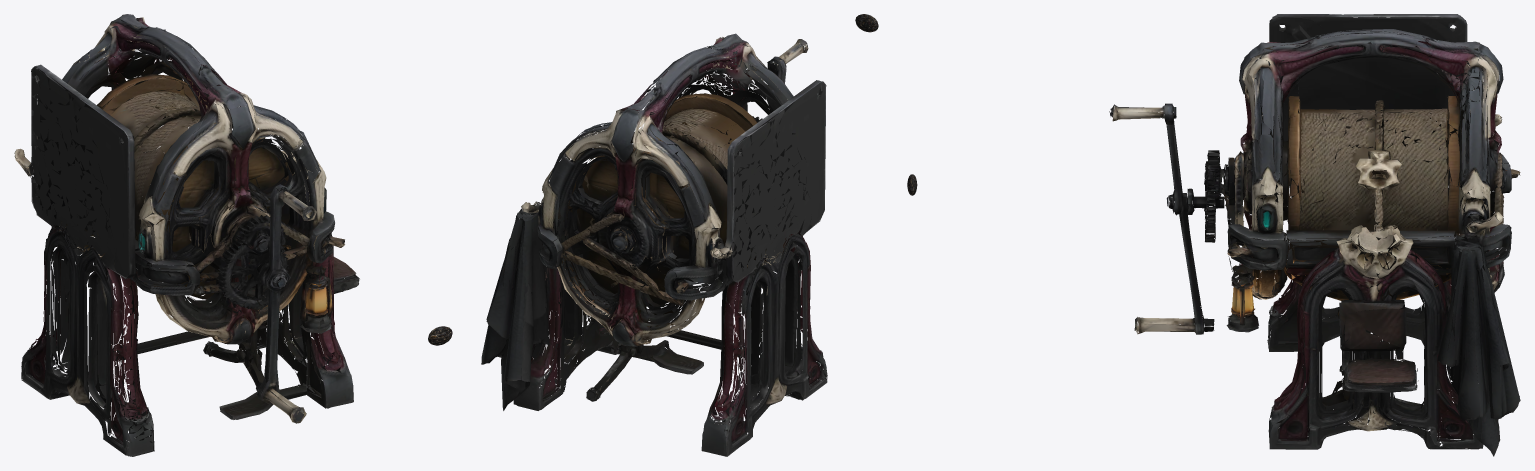
File: tallow_cultist_escort_tether_reel.glb
3 views of the same model, side by side, from view 1: azimuth 30°, elevation 25°; view 2: azimuth 150°, elevation 25°; view 3: azimuth 270°, elevation 25° (orthographic). The views are drawn at different scales.
Parts seen in each view (by area): view 1: node_0; view 2: node_0; view 3: node_0.
Boxes of the visible parts, box(x1,y1,x2,y2) form: node_0: box(14, 14, 359, 456); node_0: box(481, 33, 827, 456); node_0: box(1109, 14, 1520, 456).
Size of the model in its own units: 0.6463 by 0.799 by 1.22.
1 material, 1 textured.
